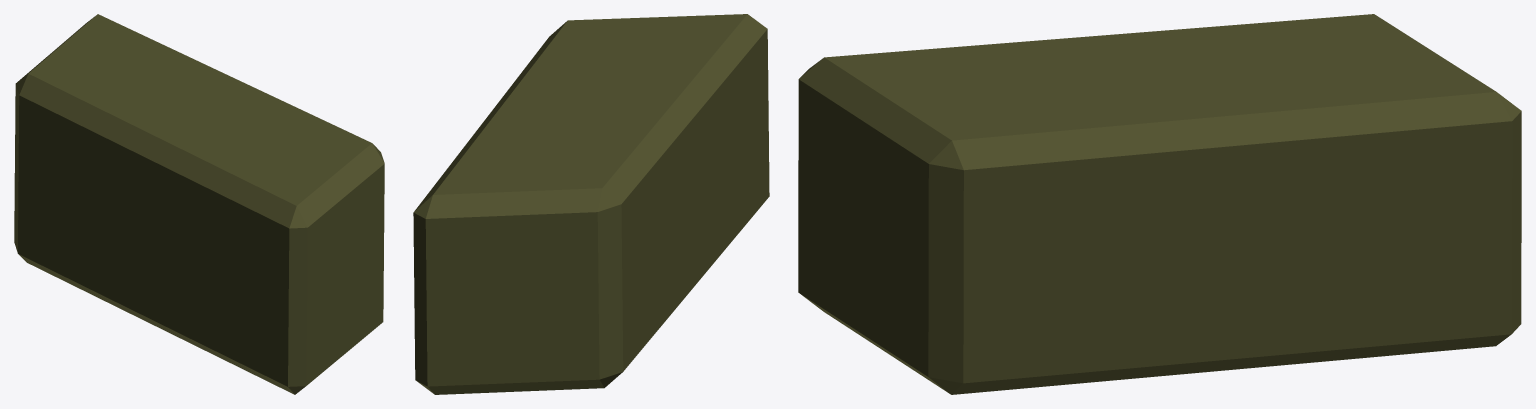
3 renders of one model, left to right at view 1: azimuth 30°, elevation 25°; view 2: azimuth 150°, elevation 25°; view 3: azimuth 270°, elevation 25°, orthographic. The views are drawn at different scales.
Visible parts, largest first — view 1: Plane.053; view 2: Plane.053; view 3: Plane.053.
Boxes of the visible parts, left/top/right/bottom form: Plane.053: left=14, top=14, right=384, bottom=394; Plane.053: left=413, top=14, right=769, bottom=394; Plane.053: left=798, top=14, right=1521, bottom=394.
Size of the model in its own units: 68.86 by 32.27 by 27.05.
